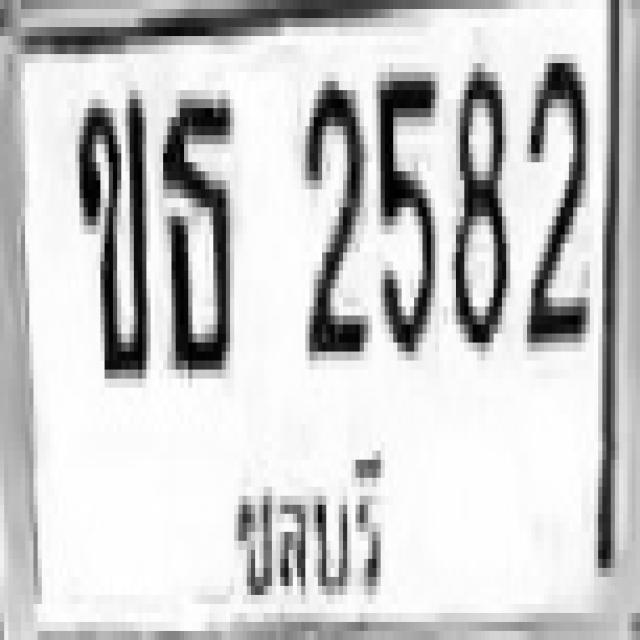11KhorKhai: (76, 90, 146, 370)
2: (523, 50, 585, 338), (301, 72, 364, 352)
33ThorThong: (159, 90, 230, 370)
5: (372, 63, 431, 352)
8: (448, 54, 506, 343)
Chonburi: (225, 425, 396, 616)
